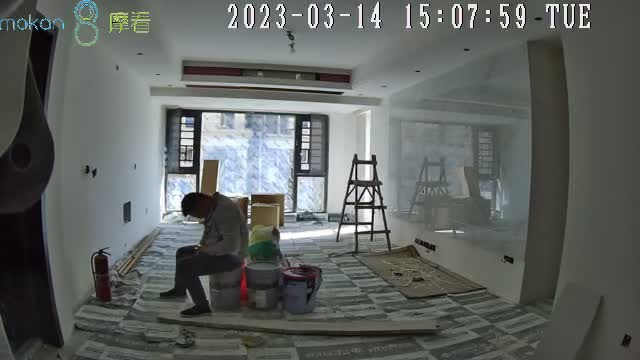people: (160, 191, 249, 316)
window: (166, 108, 329, 213)
